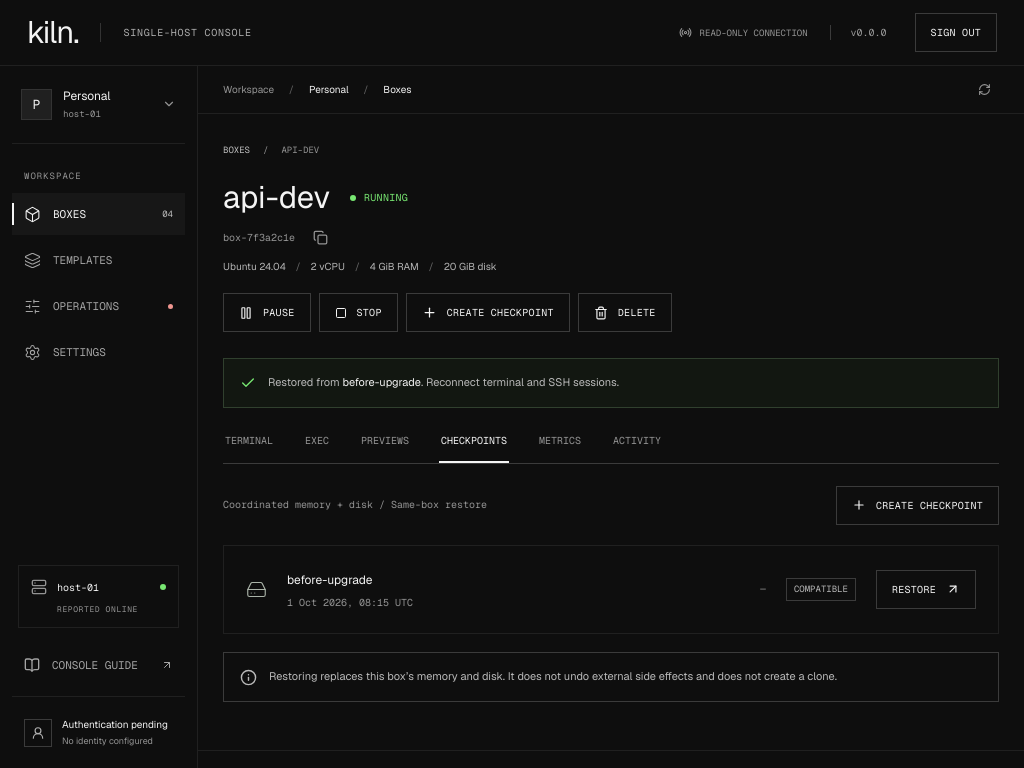
shows only same-box checkpoints and enables restore after acknowledgement
This screenshot has width=1024, height=768.
Click the button with aria-label "Restore before-upgrade" at (926, 590), box [876,570,976,609]
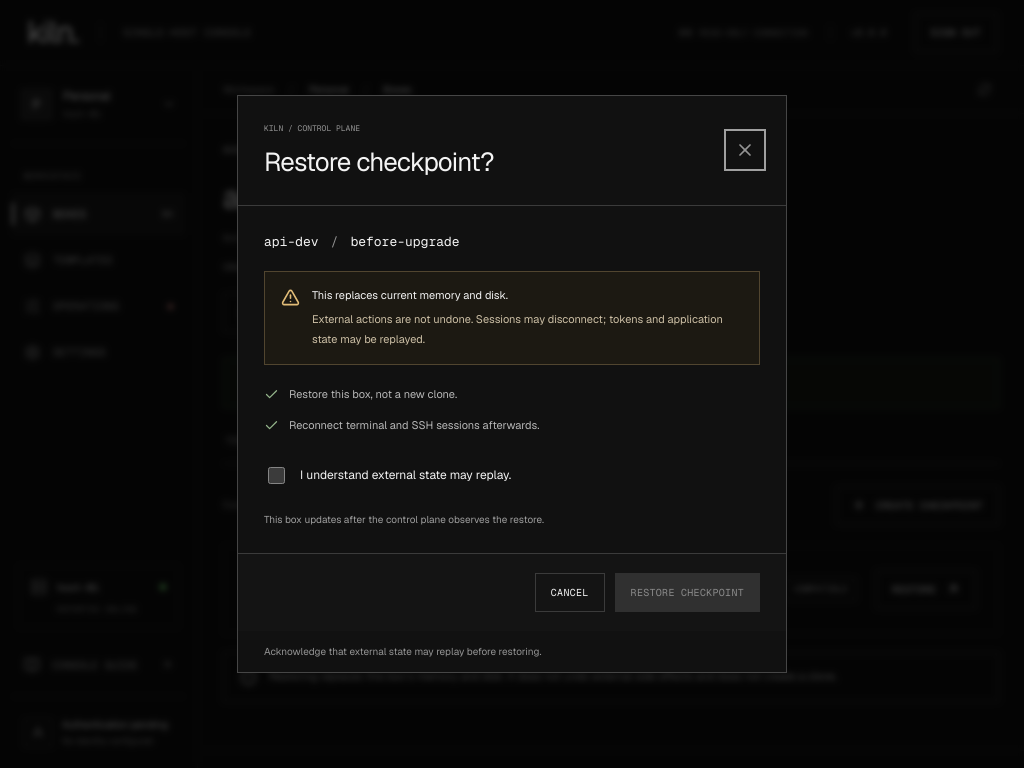
Expected: the text "External actions are not undone" is shown, [312,312,723,346]
Expected: the button "Restore checkpoint" is disabled, [615,573,760,612]
Click the checkbox labelled "I understand external state may replay." at (276, 476), box [268,467,285,484]
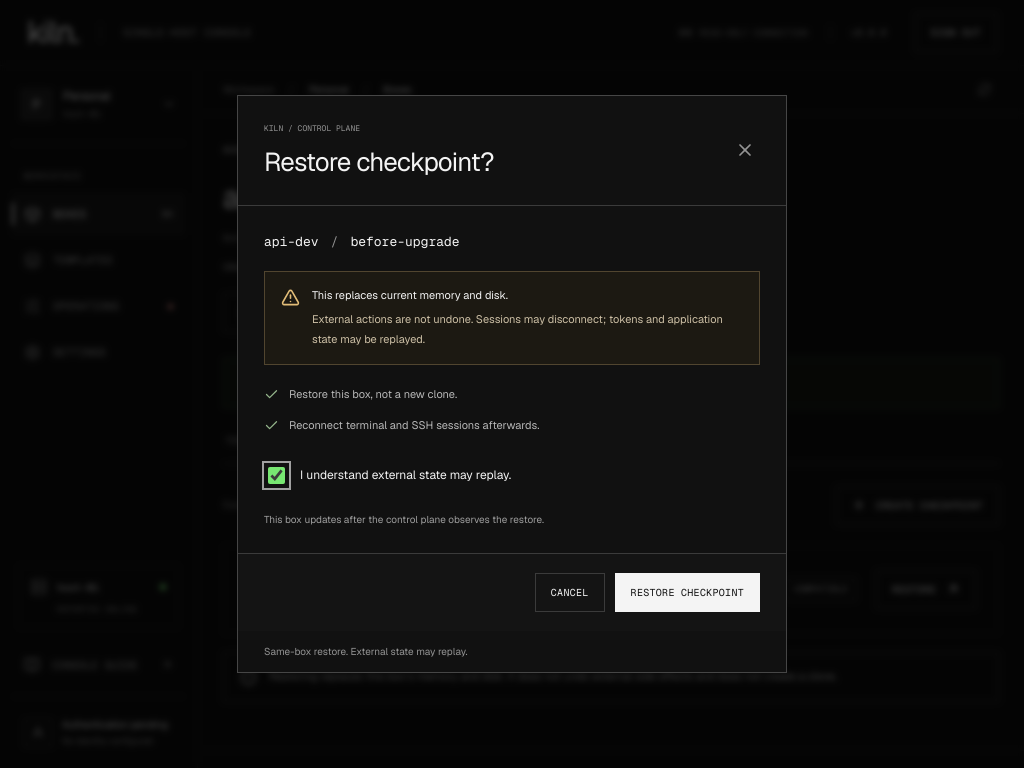
Expected: the button "Restore checkpoint" is enabled, [615,573,760,612]
Click the button "Cancel" at (570, 593), box [535,573,605,612]
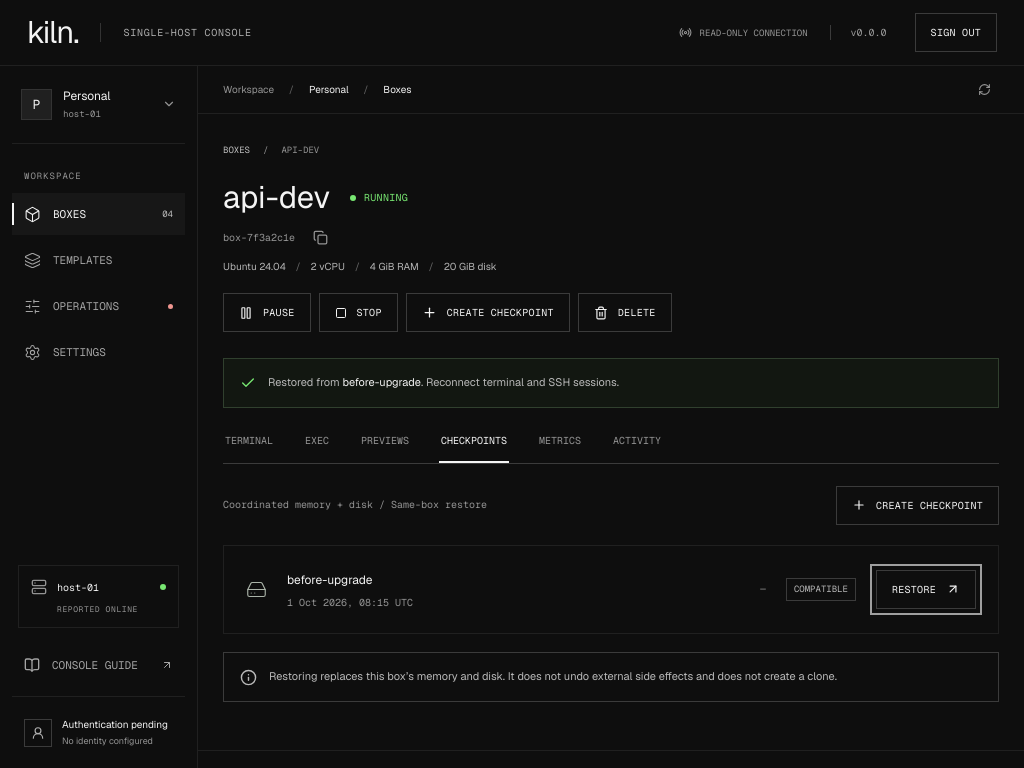
Expected: the dialog is gone
